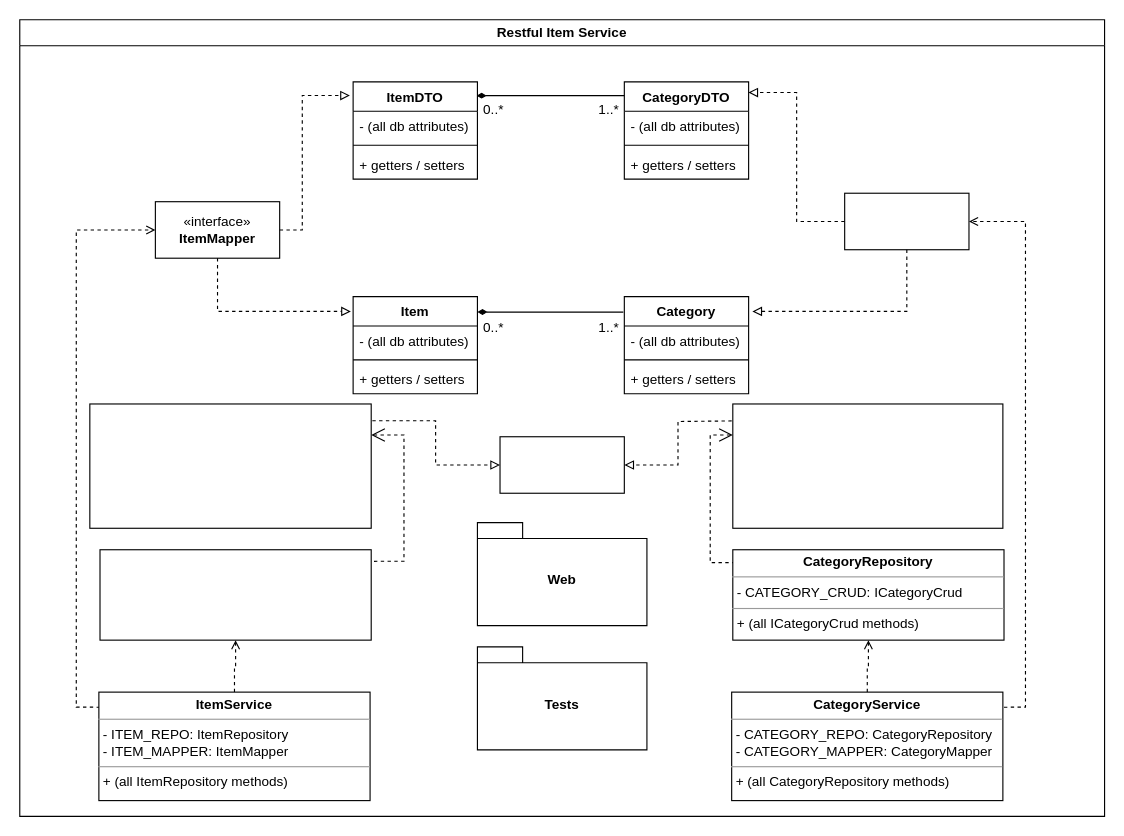
Some shapes in this 1124 by 836 pixel diagram are drawn without their labels. The shapes that lost their labels are listed below. From the top down, each one's centre as x and y in pixels, then its label:
the point at 906,221: «interface» CategoryMapper
the point at 230,465: <<Interface>> IItemCrud (none) + searchItemByCategory(Category): Iterable
the point at 561,464: «interface» CrudRepository
the point at 867,465: <<Interface>> ICategoryCrud (none) + (common crud methods)
the point at 235,594: ItemRepository - ITEM_CRUD: IItemCrud + (all IItemCrud methods)
